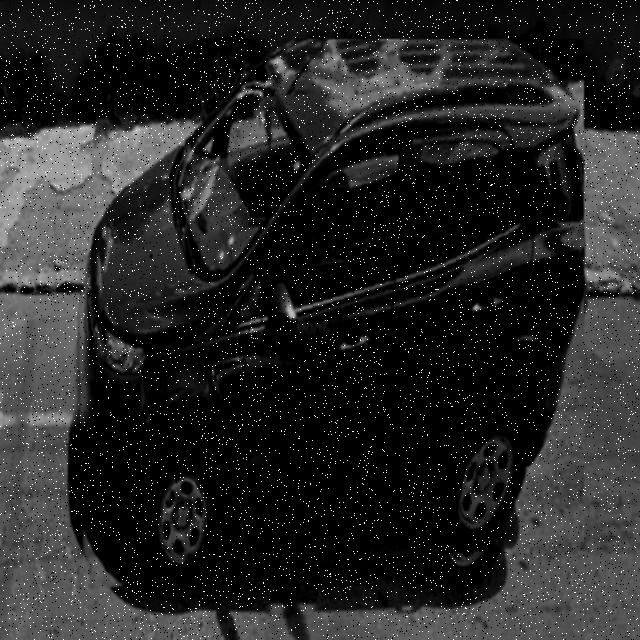car: (73, 40, 585, 591)
